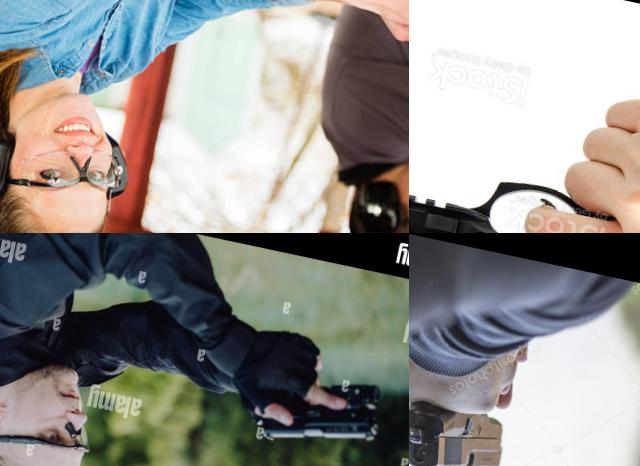handgun: (409, 26, 640, 233), (239, 356, 390, 465), (409, 374, 515, 466)
